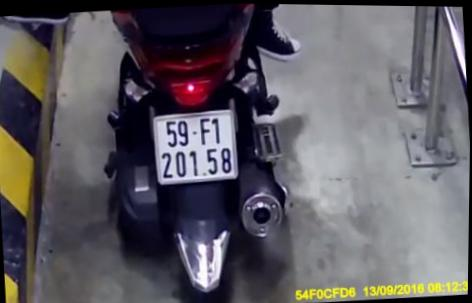LP: (147, 104, 243, 187)
